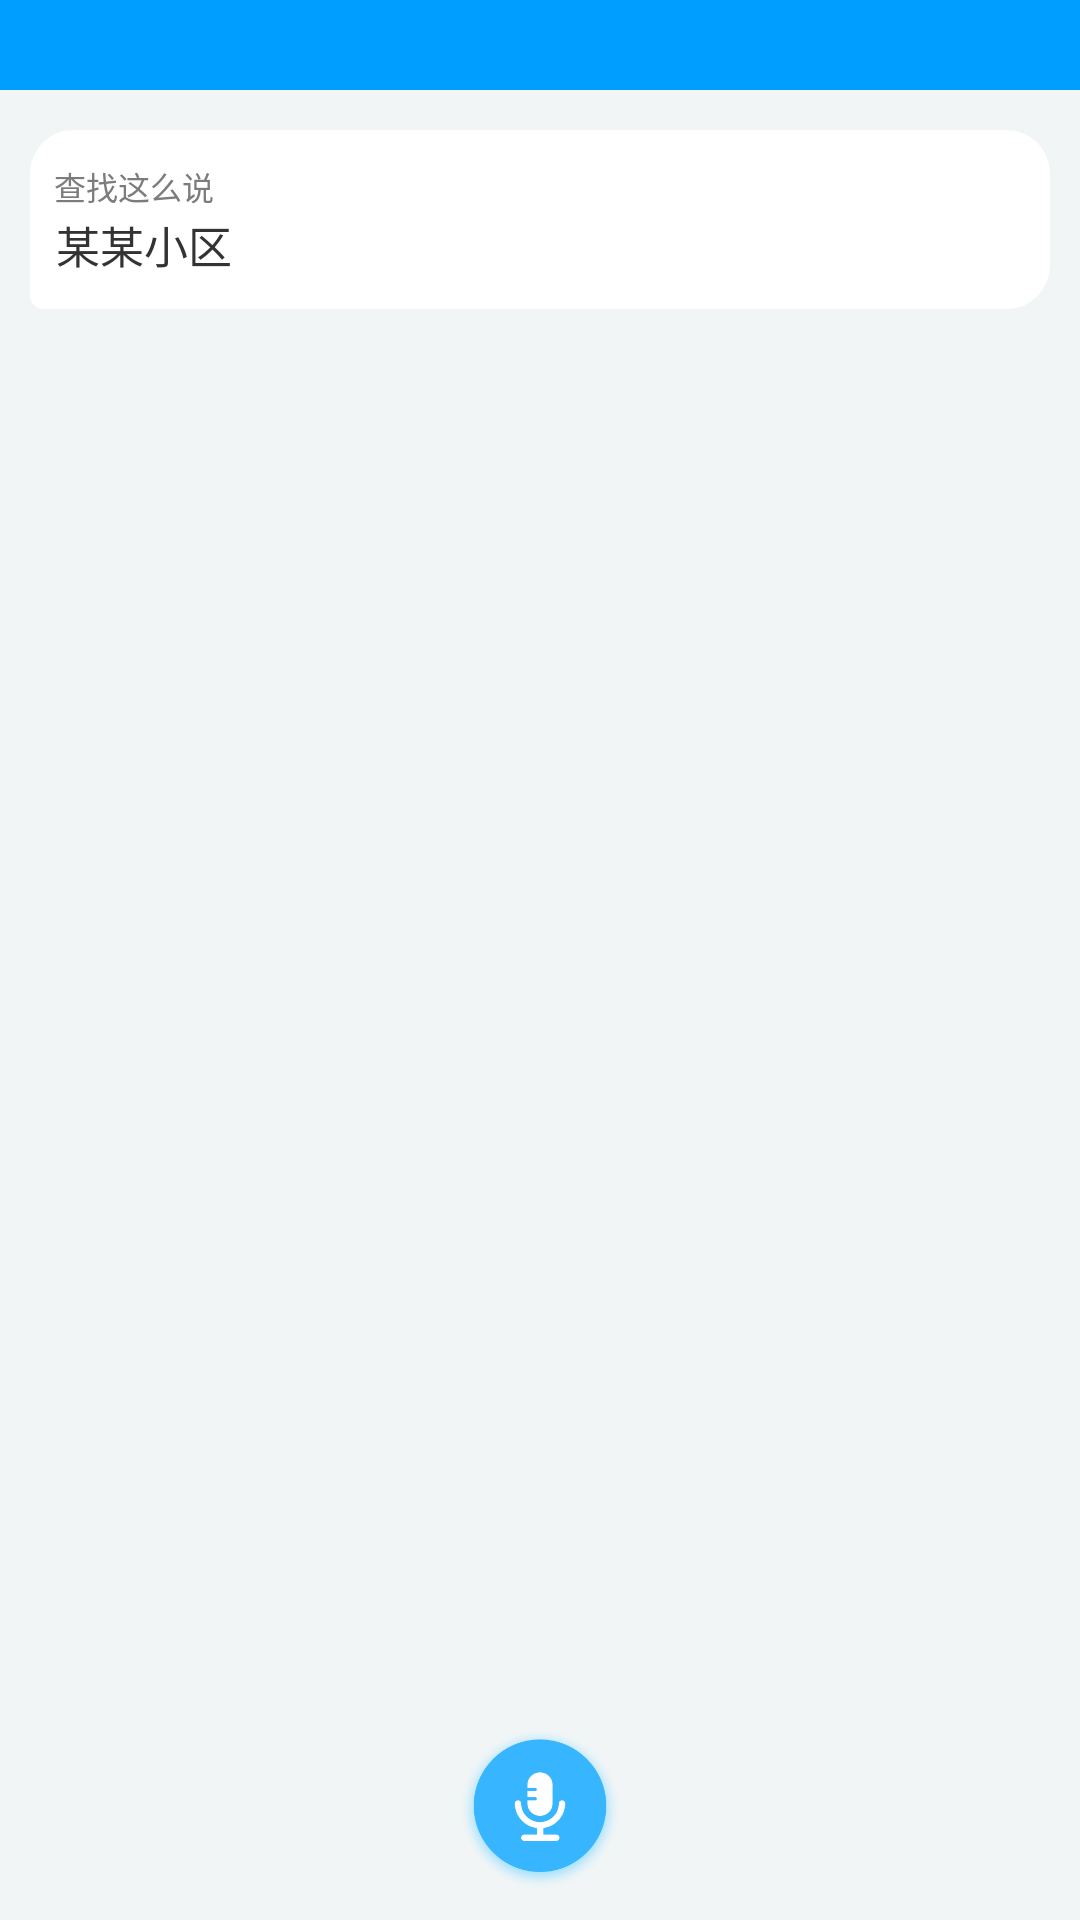

Where to tap for icons on this 1080×1920 app screen, as (x,y):
voice: (540,1809)
